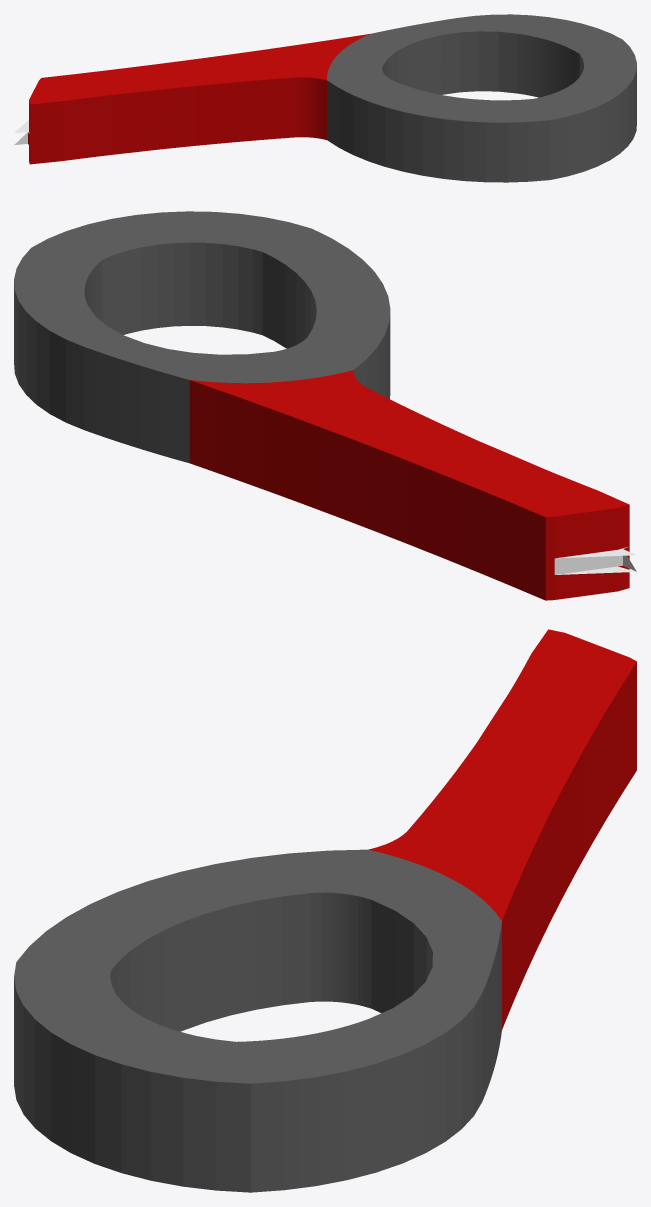
3 renders of one model, top to bottom at view 1: azimuth 30°, elevation 25°; view 2: azimuth 150°, elevation 25°; view 3: azimuth 270°, elevation 25°, orthographic. The views are drawn at different scales.
Size of the model in its own units: 0.6879 by 0.0754 by 0.3908.
